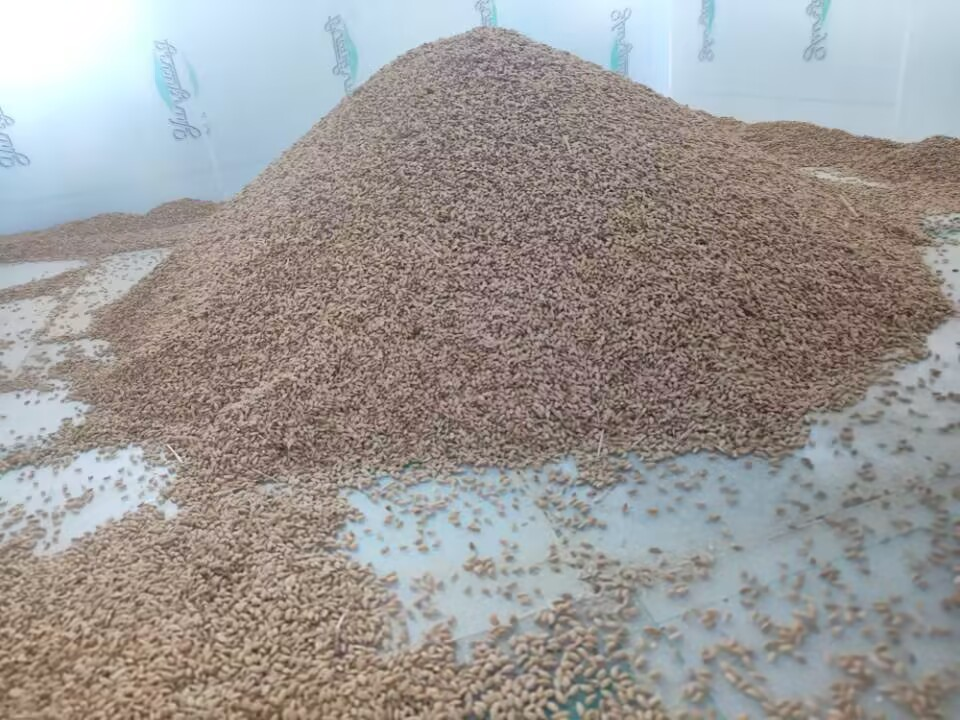Grain: (132, 24, 929, 452)
